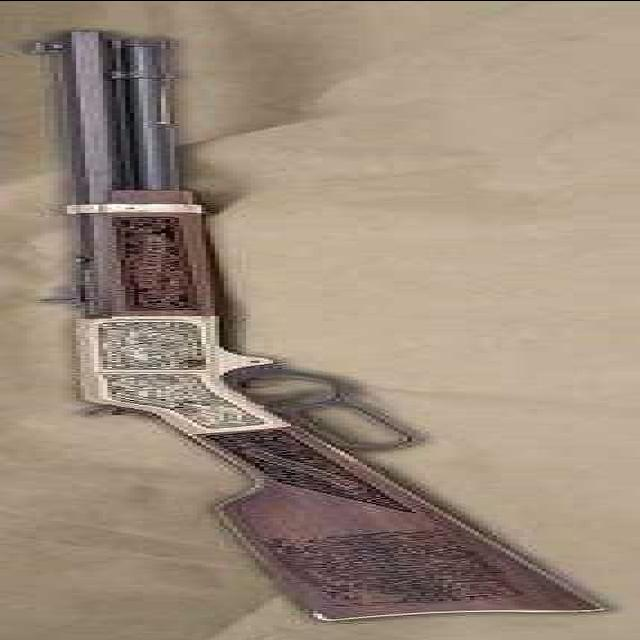heavyweapon: (14, 23, 632, 634)
